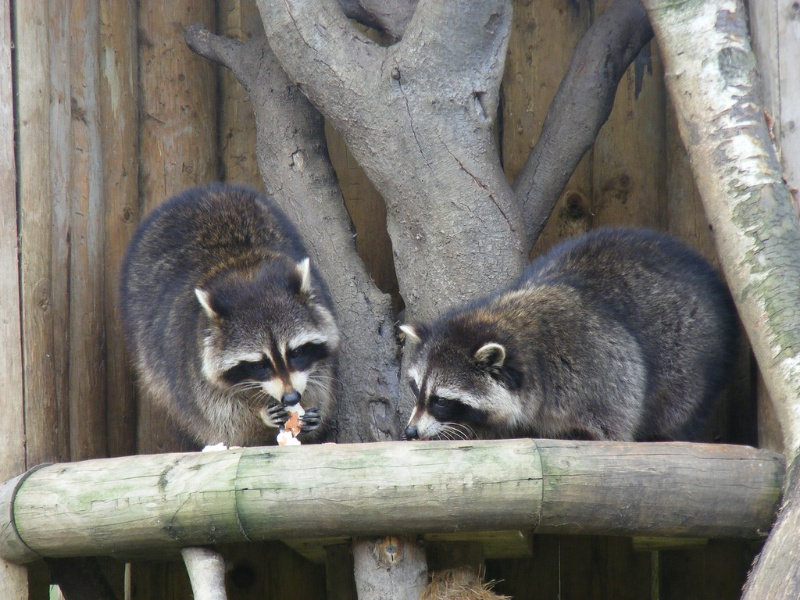raccoon: (400, 223, 758, 447), (118, 184, 346, 447)
